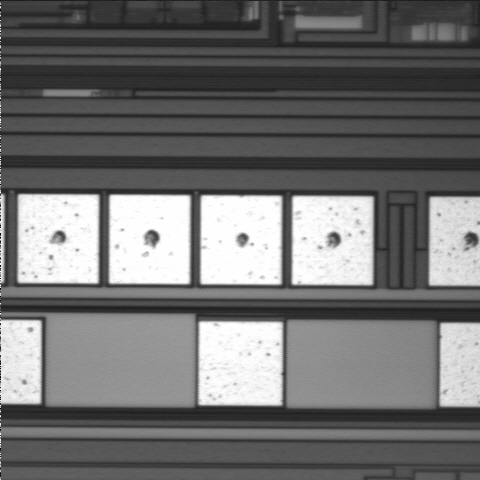pad: (200, 195, 282, 285), (18, 194, 99, 283), (109, 195, 190, 284), (292, 196, 373, 285), (198, 321, 283, 405)
